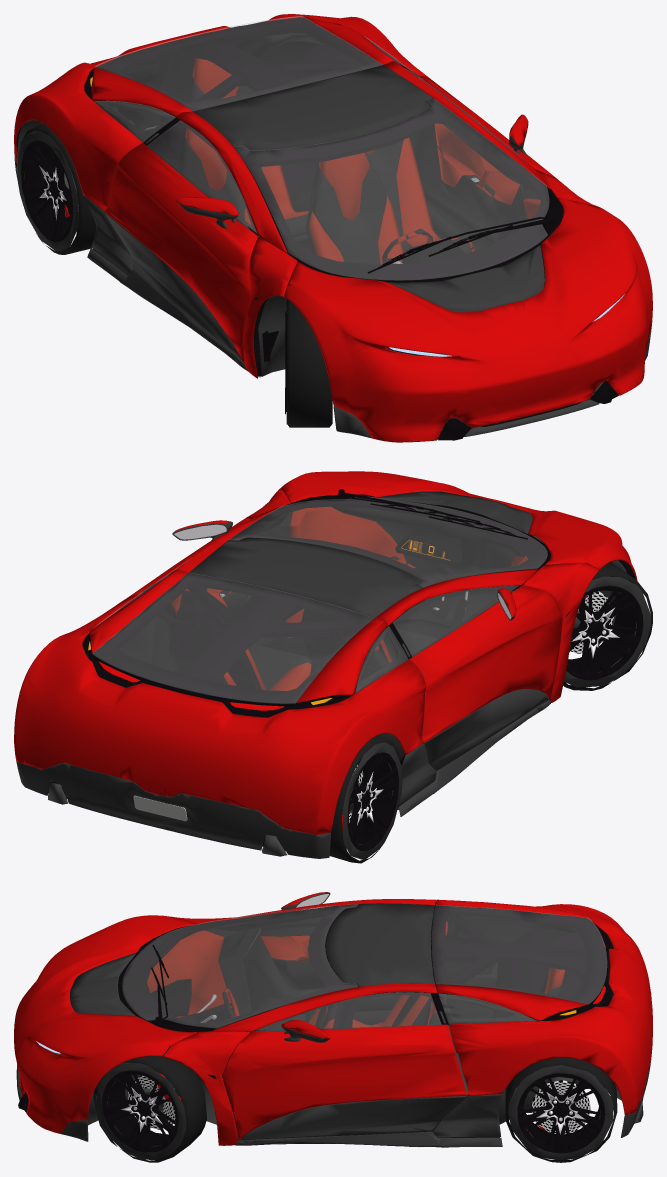
File: car.glb
3 views of the same model, one above another, from view 1: azimuth 30°, elevation 25°; view 2: azimuth 150°, elevation 25°; view 3: azimuth 270°, elevation 25° (orthographic). The views are drawn at different scales.
Visible parts, largest first — view 1: BodyRearPanelsColor1, BodyWindshield, BodyWindshieldGasket, BodyRoofPanel, InteriorDashSides, InteriorDashMid, InteriorSeatsColor2, object 21, WheelFrontLRim, BodyUnderside, InteriorMid, InteriorSteeringDash; view 2: BodyRearPanelsColor1, BodyWindshield, BodyRoofPanel, BodyWindshieldGasket, InteriorDashMid, WheelFrontLRim, object 21, InteriorDashSides, InteriorSeatsColor2, InteriorFloormats, InteriorSteeringDash, BodyUnderside (+3 smaller); view 3: BodyRearPanelsColor1, BodyWindshield, BodyRoofPanel, BodyWindshieldGasket, object 21, WheelFrontLRim, InteriorDashMid, InteriorDashSides, InteriorMid, BodyUnderside, WheelFrontLBrakeDisc, InteriorSeatsColor2 (+1 smaller).
Part boxes in pixels (x1=…): BodyRearPanelsColor1: x1=14, y1=14, x2=652, y2=442; BodyWindshield: x1=94, y1=16, x2=549, y2=280; BodyWindshieldGasket: x1=16, y1=17, x2=618, y2=440; BodyRoofPanel: x1=15, y1=65, x2=651, y2=438; InteriorDashSides: x1=185, y1=58, x2=541, y2=349; InteriorDashMid: x1=16, y1=33, x2=526, y2=280; InteriorSeatsColor2: x1=180, y1=78, x2=471, y2=264; object 21: x1=18, y1=124, x2=332, y2=427; WheelFrontLRim: x1=21, y1=140, x2=286, y2=414; BodyUnderside: x1=16, y1=77, x2=606, y2=430; InteriorMid: x1=93, y1=171, x2=557, y2=375; InteriorSteeringDash: x1=404, y1=239, x2=465, y2=263; BodyRearPanelsColor1: x1=14, y1=471, x2=637, y2=834; BodyWindshield: x1=92, y1=497, x2=547, y2=703; BodyRoofPanel: x1=16, y1=491, x2=550, y2=858; BodyWindshieldGasket: x1=52, y1=489, x2=635, y2=784; InteriorDashMid: x1=48, y1=503, x2=525, y2=851; WheelFrontLRim: x1=342, y1=585, x2=643, y2=851; object 21: x1=49, y1=503, x2=652, y2=863; InteriorDashSides: x1=171, y1=506, x2=528, y2=690; InteriorSeatsColor2: x1=176, y1=609, x2=437, y2=690; InteriorFloormats: x1=269, y1=598, x2=467, y2=661; InteriorSteeringDash: x1=395, y1=533, x2=462, y2=566; BodyUnderside: x1=48, y1=517, x2=628, y2=856; BodyRearPanelsColor1: x1=14, y1=892, x2=652, y2=1145; BodyWindshield: x1=122, y1=904, x2=606, y2=1031; BodyRoofPanel: x1=16, y1=892, x2=651, y2=1147; BodyWindshieldGasket: x1=18, y1=901, x2=612, y2=1144; object 21: x1=93, y1=1054, x2=617, y2=1162; WheelFrontLRim: x1=102, y1=1063, x2=605, y2=1153; InteriorDashMid: x1=118, y1=907, x2=613, y2=1040; InteriorDashSides: x1=147, y1=921, x2=564, y2=1099; InteriorMid: x1=205, y1=921, x2=499, y2=1143; BodyUnderside: x1=38, y1=928, x2=643, y2=1125; WheelFrontLBrakeDisc: x1=127, y1=1075, x2=590, y2=1134; InteriorSeatsColor2: x1=305, y1=973, x2=560, y2=1029.
Size of the model in its own units: 2.54 by 1.15 by 4.36.
Materials: 23 (4 with a texture image).
